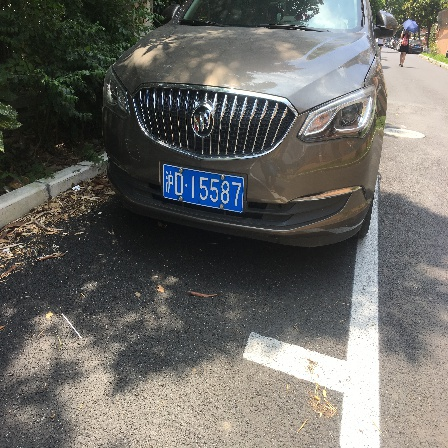plate: (158, 162, 249, 217)
